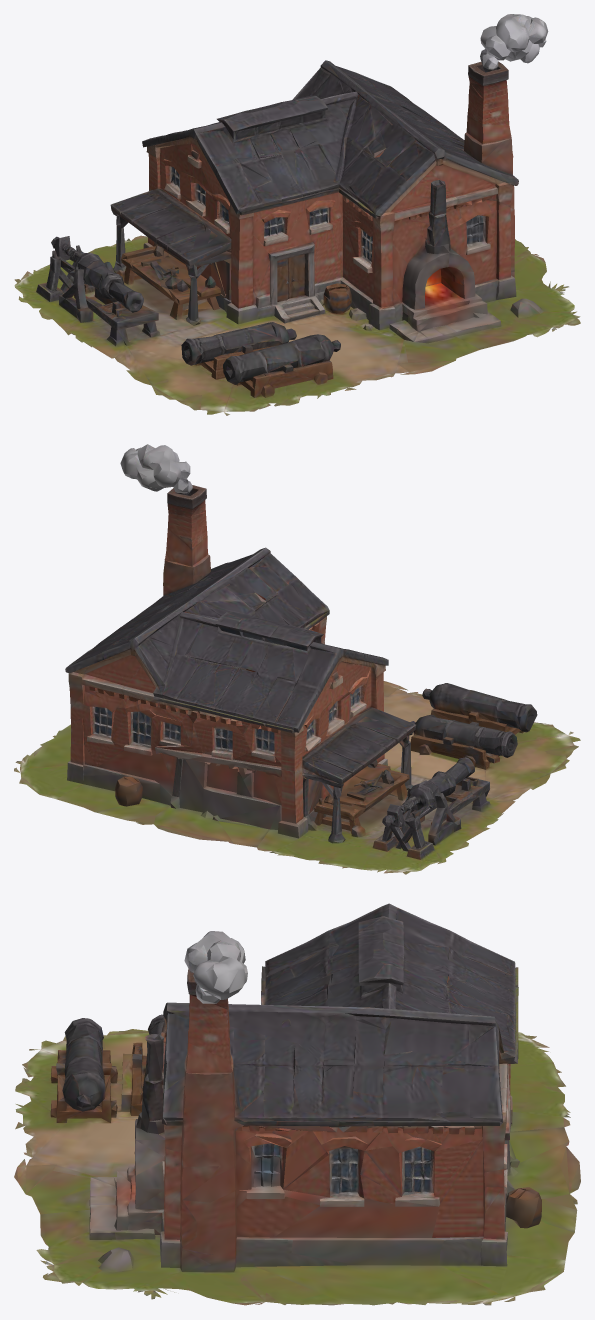
File: siege.glb
3 renders of one model, top to bottom at view 1: azimuth 30°, elevation 25°; view 2: azimuth 150°, elevation 25°; view 3: azimuth 270°, elevation 25°, orthographic. The views are drawn at different scales.
Bounding box in the file's own units: 1.9 × 1.09 × 1.62.
1 material, 1 textured.
